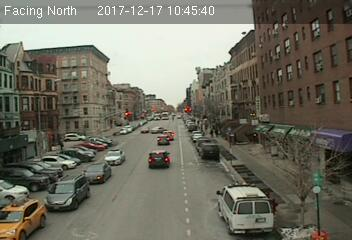car: (44, 173, 90, 212), (82, 161, 112, 186), (147, 151, 172, 168), (200, 143, 218, 161), (155, 134, 170, 147)
police: (215, 180, 275, 236), (104, 148, 126, 166)
